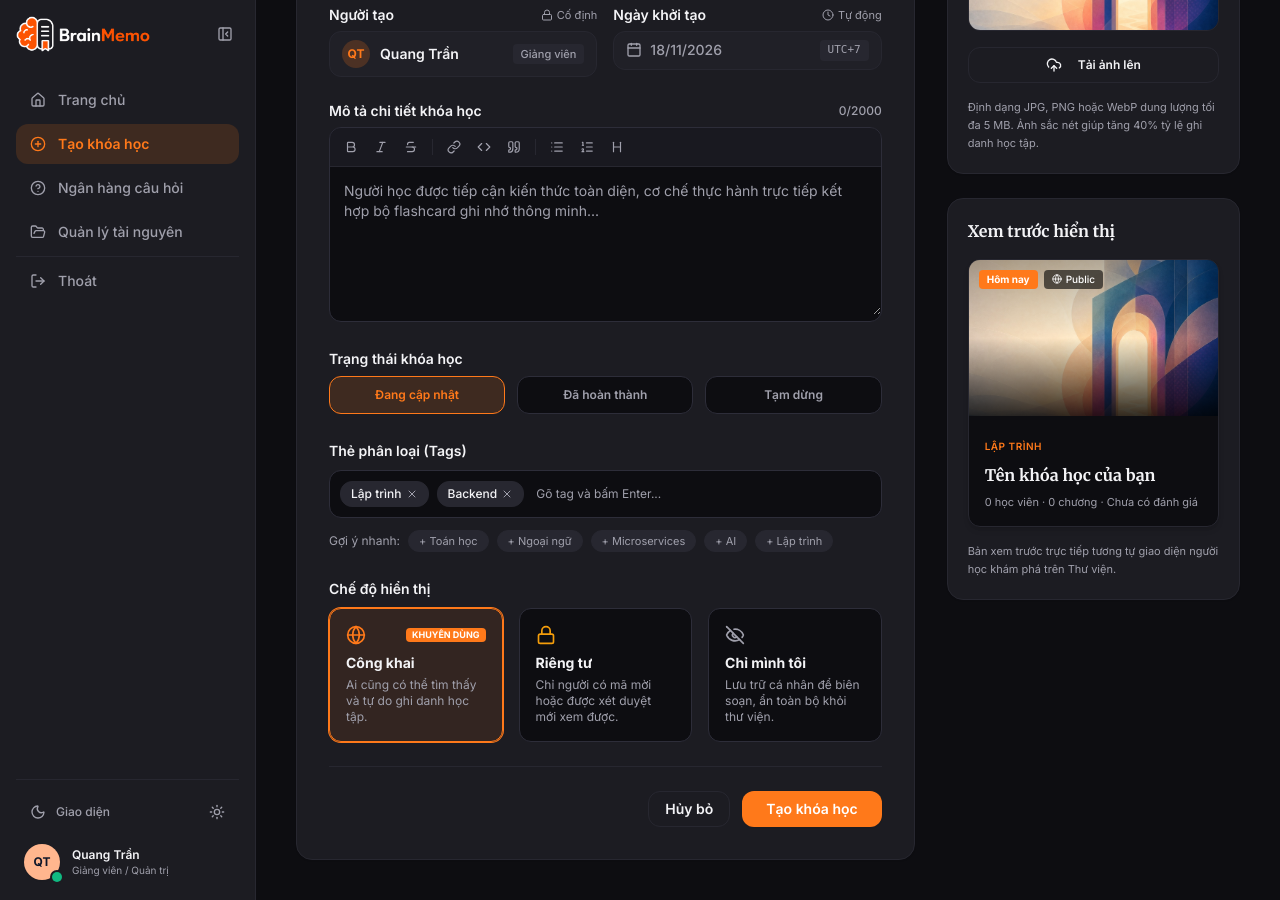
Course Pages (SCR-CRS-01..03) › SCR-CRS-02: Course Create & Edit Form (/courses/new, /courses/:courseId/edit) › renders create course form and validates required name
(page scrolled)
Step 1. Click the button "Tạo khóa học" → [812, 809], box 742,791 -> 882,827
(page scrolled)
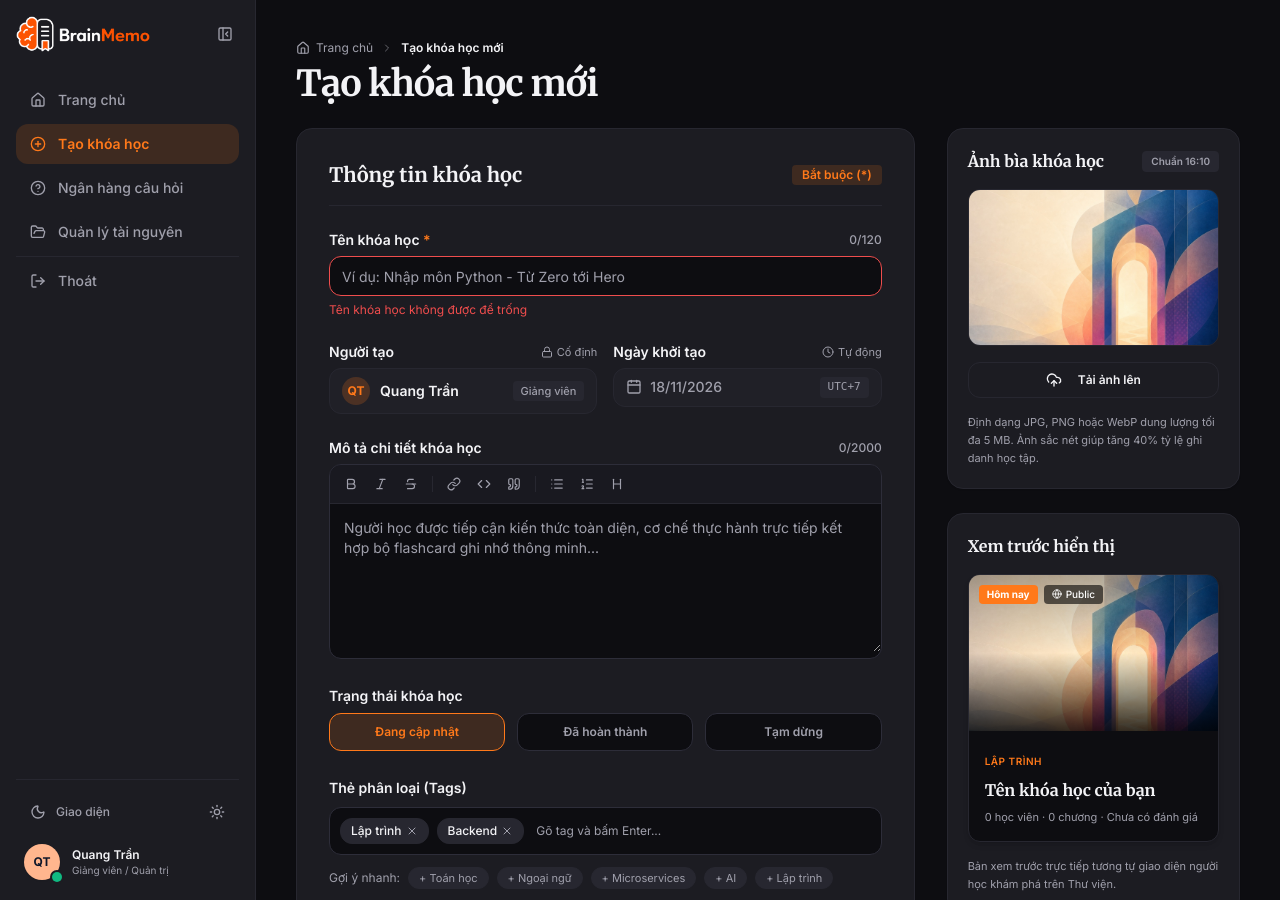
Check: the text "Tên khóa học không được để trống" is shown, box 329,302 -> 527,317
